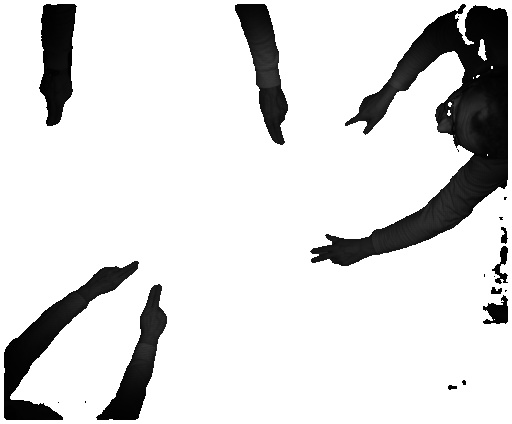hand: (304, 232, 368, 271), (85, 256, 143, 299), (32, 77, 79, 127), (344, 92, 394, 135), (256, 94, 287, 151), (139, 283, 167, 341)
